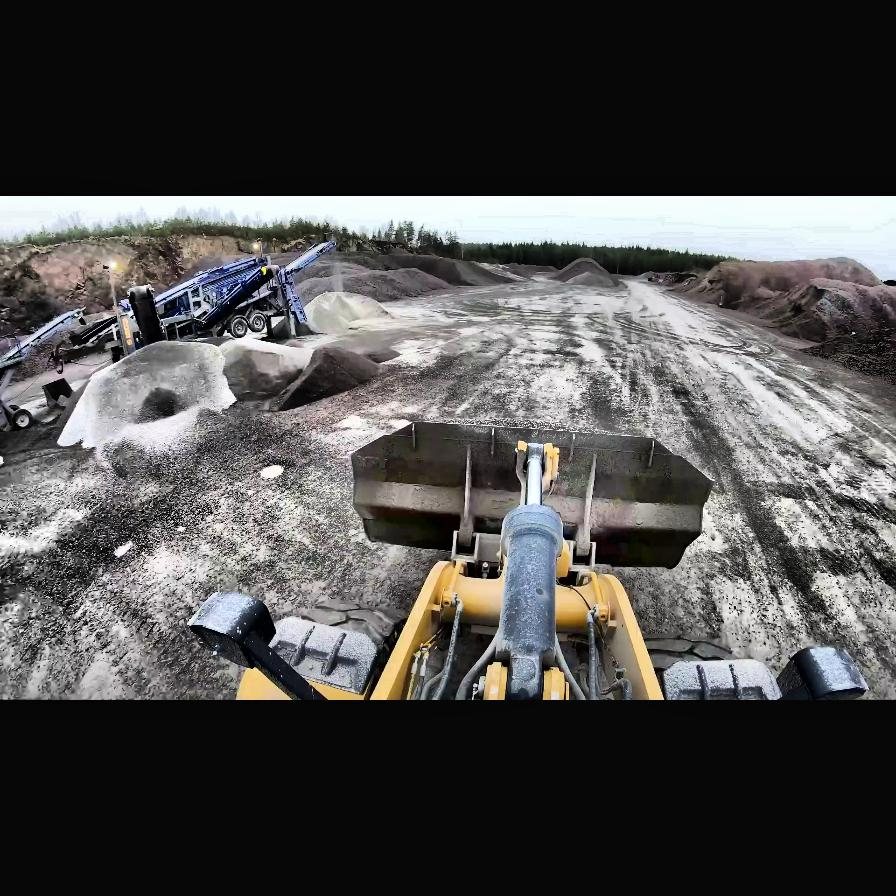anchor: (516, 440, 562, 500)
pile of gravel: (54, 337, 402, 449), (646, 253, 896, 374), (285, 248, 475, 308), (552, 257, 616, 285), (505, 263, 560, 279)
